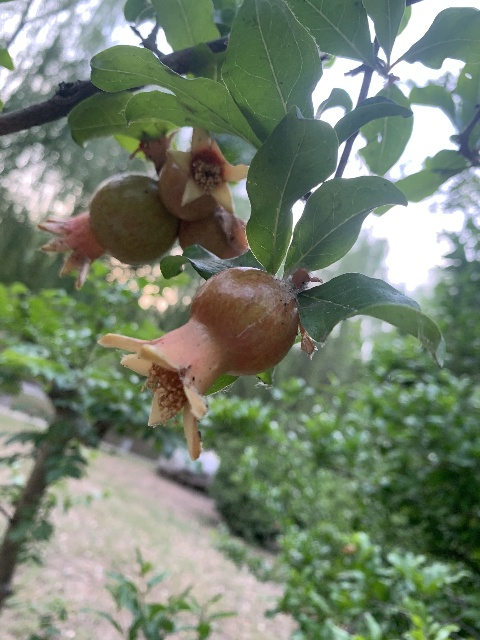early-fruit: (97, 266, 299, 461), (157, 127, 247, 220)
mid-growth: (36, 174, 177, 289)
